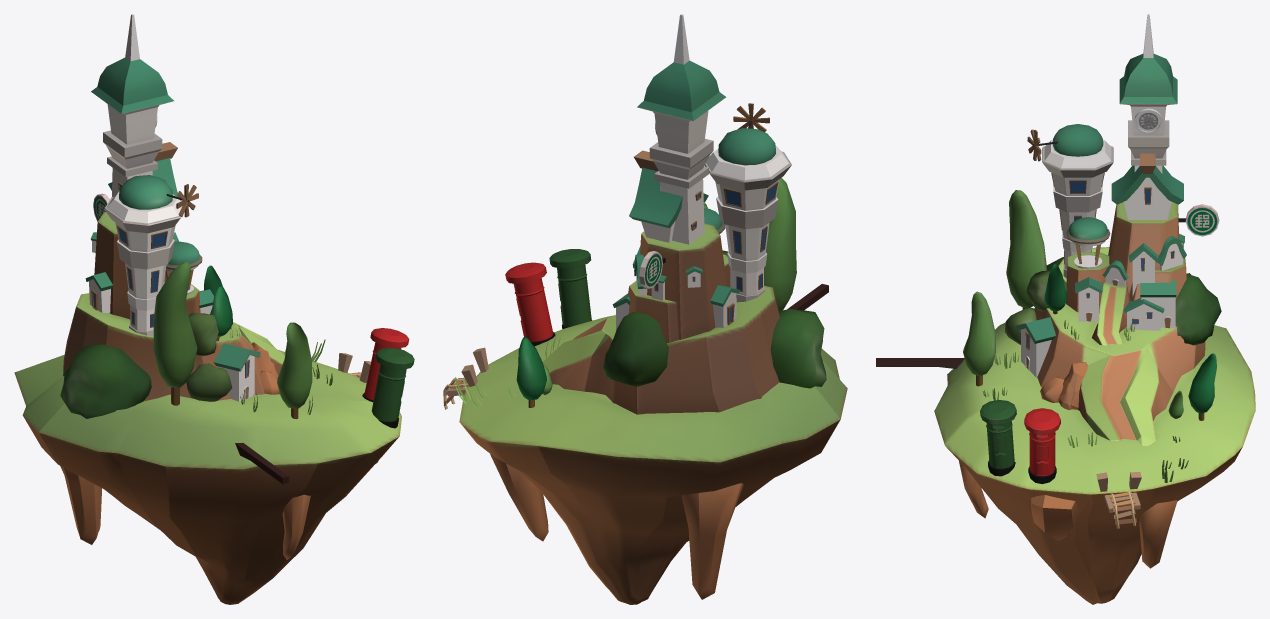
File: island.fbx
The picture shows the model from 3 angles, left to right: view 1: azimuth 30°, elevation 25°; view 2: azimuth 150°, elevation 25°; view 3: azimuth 270°, elevation 25°; orthographic projection. The views are drawn at different scales.
Visible parts, largest first — view 1: ground, treeA_leaf (×3), treeB_03, main_tower_part01, tower_part01, postcan_part01 (×2), main_tower_part02, rock03, tower_part02, tower_part03, treeB_04, rock01 (+5 smaller); view 2: ground, main_tower_part01, postcan_part01 (×2), treeA_leaf (×2), tower_part01, rock03, main_tower_part02, treeB_03, treeB_02, tower_part02, rock02, houseC_roof (+2 smaller); view 3: ground, treeA_leaf (×4), wall (×6), postcan_part01 (×2), main_tower_part01, tower_part01, treeB_02, rock04, rock02, houseC_roof, court, tower_part03 (+10 smaller).
Boxes of the visible parts, bbox=[...] form: ground: bbox=[14, 212, 401, 604]; treeA_leaf (×3): bbox=[153, 262, 312, 408]; treeB_03: bbox=[60, 344, 151, 418]; main_tower_part01: bbox=[91, 14, 173, 144]; tower_part01: bbox=[104, 191, 182, 269]; postcan_part01 (×2): bbox=[362, 328, 414, 428]; main_tower_part02: bbox=[103, 130, 162, 196]; rock03: bbox=[60, 466, 101, 544]; tower_part02: bbox=[125, 263, 166, 335]; tower_part03: bbox=[119, 175, 172, 209]; treeB_04: bbox=[186, 363, 232, 401]; rock01: bbox=[282, 494, 310, 559]; ground: bbox=[459, 223, 847, 604]; main_tower_part01: bbox=[637, 14, 726, 153]; postcan_part01 (×2): bbox=[505, 249, 592, 346]; treeA_leaf (×2): bbox=[516, 178, 796, 400]; tower_part01: bbox=[704, 145, 791, 229]; rock03: bbox=[681, 483, 743, 599]; main_tower_part02: bbox=[649, 138, 713, 244]; treeB_03: bbox=[770, 309, 826, 388]; treeB_02: bbox=[603, 311, 668, 386]; tower_part02: bbox=[725, 222, 769, 302]; rock02: bbox=[490, 454, 548, 541]; houseC_roof: bbox=[629, 167, 708, 228]; ground: bbox=[934, 202, 1255, 604]; treeA_leaf (×4): bbox=[963, 190, 1216, 413]; wall (×6): bbox=[1021, 177, 1175, 377]; postcan_part01 (×2): bbox=[980, 400, 1060, 484]; main_tower_part01: bbox=[1119, 14, 1177, 135]; tower_part01: bbox=[1042, 139, 1113, 212]; treeB_02: bbox=[1175, 273, 1221, 345]; rock04: bbox=[1031, 495, 1081, 541]; rock02: bbox=[1139, 500, 1176, 568]; houseC_roof: bbox=[1111, 165, 1183, 204]; court: bbox=[1066, 217, 1110, 268]; tower_part03: bbox=[1052, 124, 1103, 156].
Bounding box in the file's own units: 102 × 161 × 99.7.
